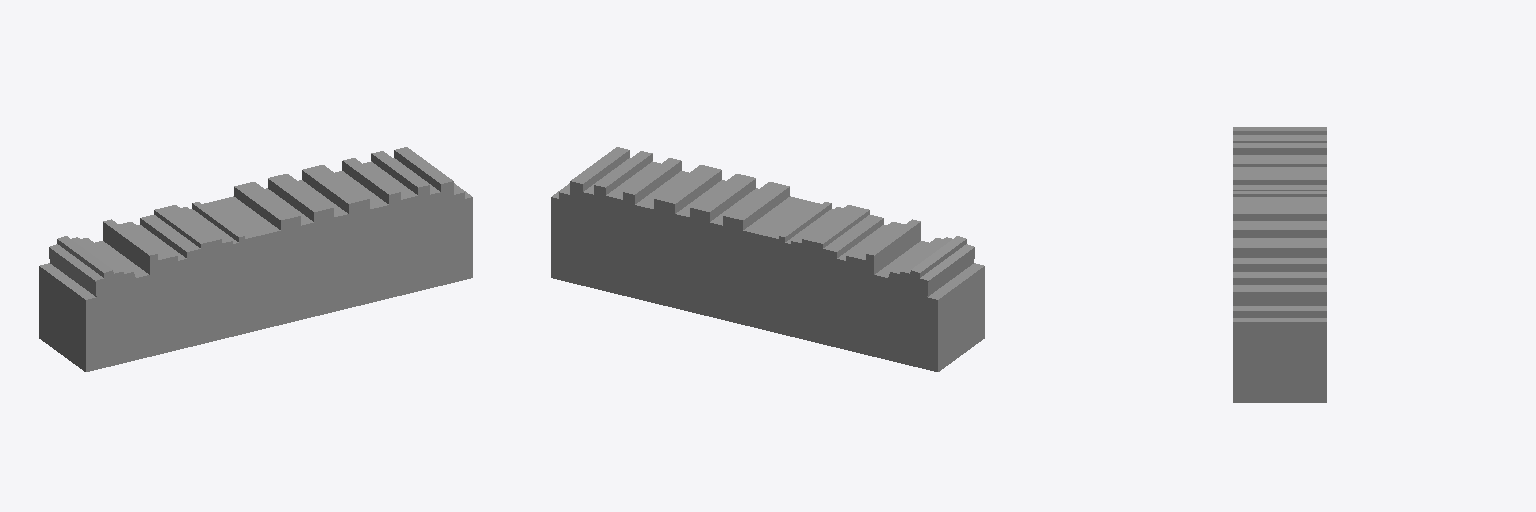
The picture shows the model from 3 angles: view 1: azimuth 30°, elevation 25°; view 2: azimuth 150°, elevation 25°; view 3: azimuth 270°, elevation 25°; orthographic projection.
Visible parts, largest first — view 1: SketchUp_ID2; view 2: SketchUp_ID2; view 3: SketchUp_ID2.
Boxes of the visible parts, x1,y1,x2,y2 form: SketchUp_ID2: [39, 147, 472, 371]; SketchUp_ID2: [551, 147, 984, 371]; SketchUp_ID2: [1233, 127, 1326, 402].
Size of the model in its own units: 6.8 by 1.75 by 1.42.